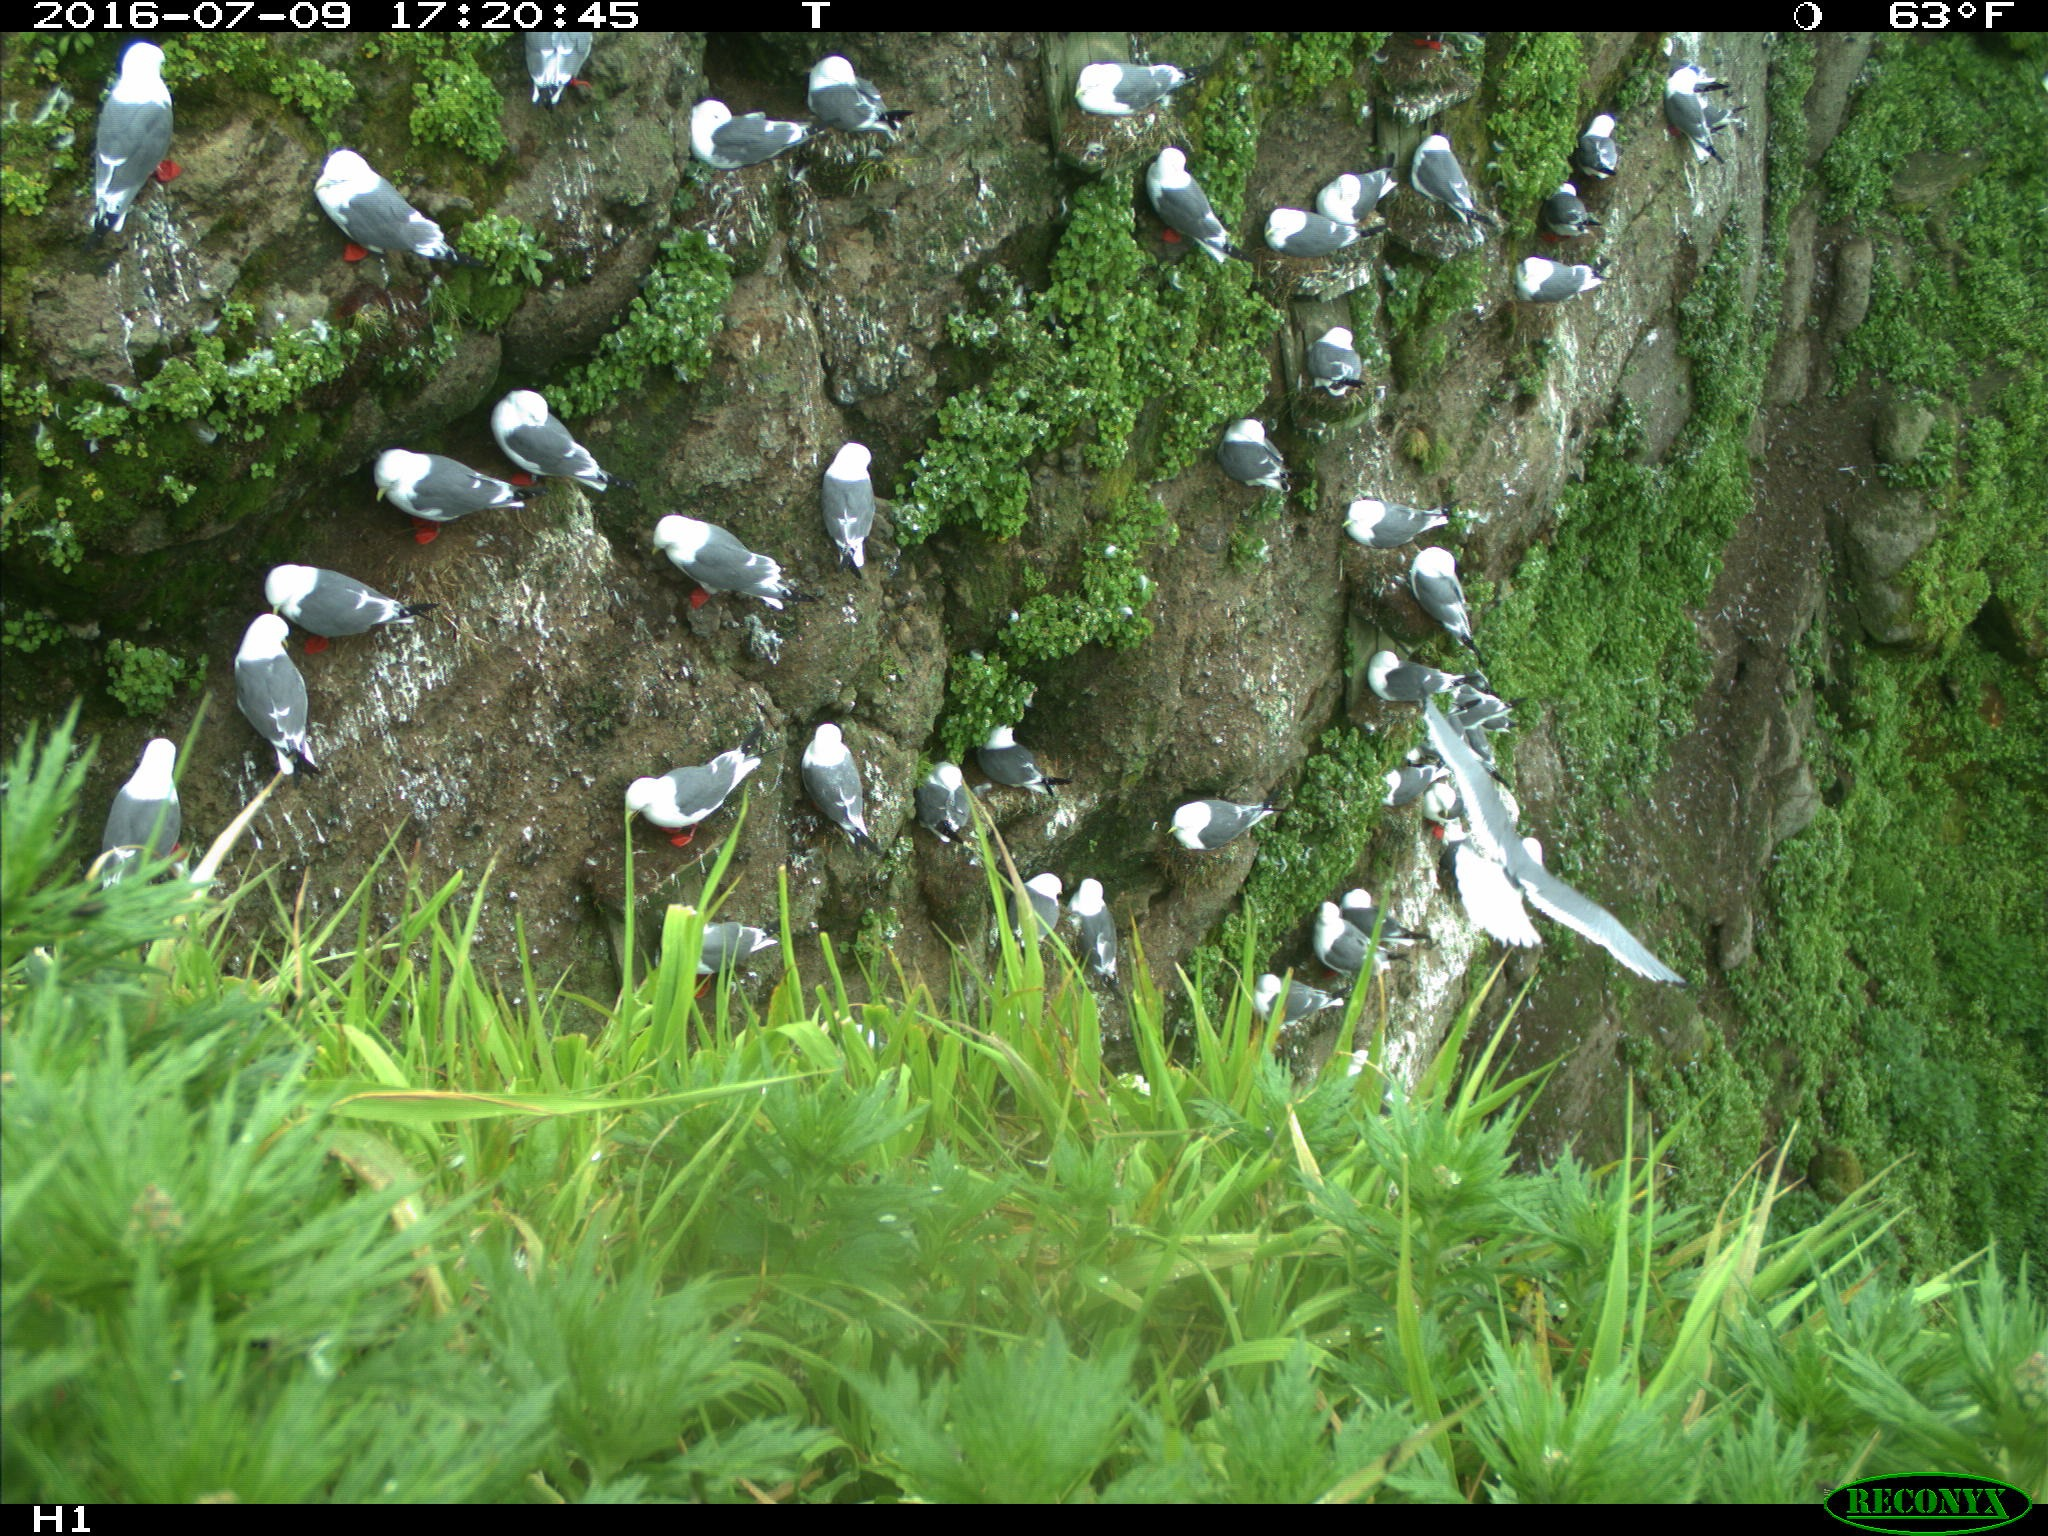Kittiwake: (298, 131, 495, 302), (282, 513, 460, 700), (645, 484, 803, 653), (213, 536, 343, 737), (89, 720, 210, 921), (69, 34, 181, 242), (460, 353, 584, 532), (342, 423, 476, 582), (587, 734, 739, 871), (1135, 124, 1253, 278), (785, 699, 892, 849), (800, 45, 942, 153), (671, 100, 845, 182), (1050, 48, 1216, 132), (801, 424, 892, 570), (1637, 61, 1755, 171), (1295, 145, 1401, 257), (489, 31, 626, 111), (1237, 171, 1342, 274), (1496, 232, 1621, 316), (1345, 623, 1447, 724), (1064, 866, 1135, 1010), (1208, 407, 1316, 500), (1251, 933, 1334, 1055), (1401, 123, 1505, 219), (1168, 776, 1279, 862), (1324, 474, 1435, 558), (1521, 171, 1630, 253), (1406, 523, 1477, 645), (1596, 102, 1684, 194), (1342, 876, 1442, 950), (679, 913, 789, 979), (1293, 329, 1409, 390), (1005, 842, 1055, 971), (1295, 900, 1363, 991), (927, 758, 993, 850), (1555, 90, 1608, 198), (977, 724, 1053, 800)
